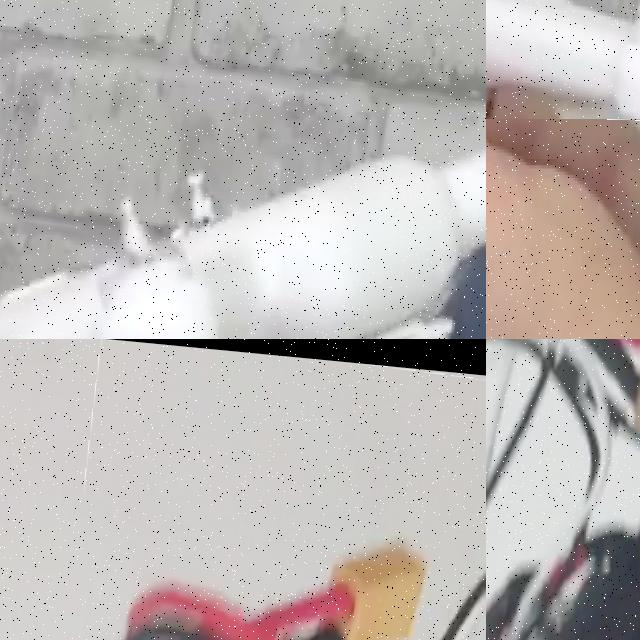drone: (0, 0, 486, 339), (84, 339, 486, 640), (486, 339, 640, 640), (486, 0, 640, 119)
